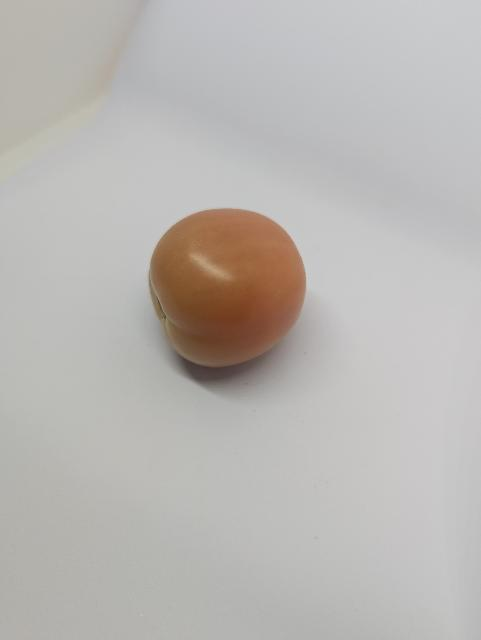turning: (145, 202, 317, 383)
